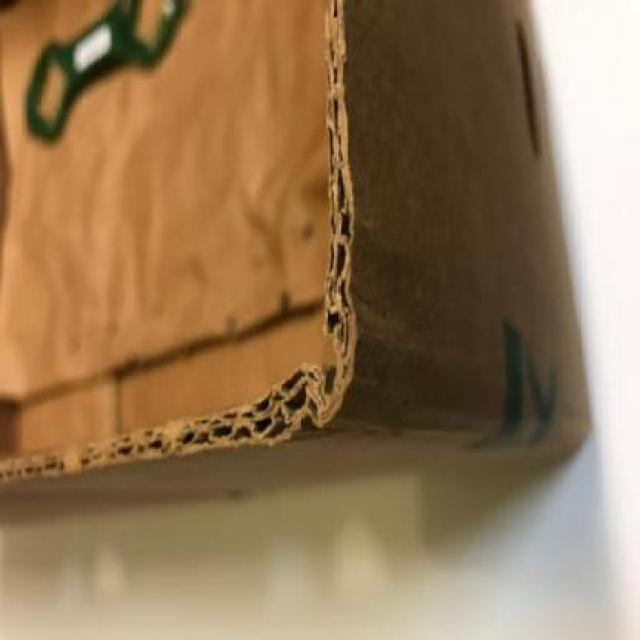box: (0, 0, 617, 556)
